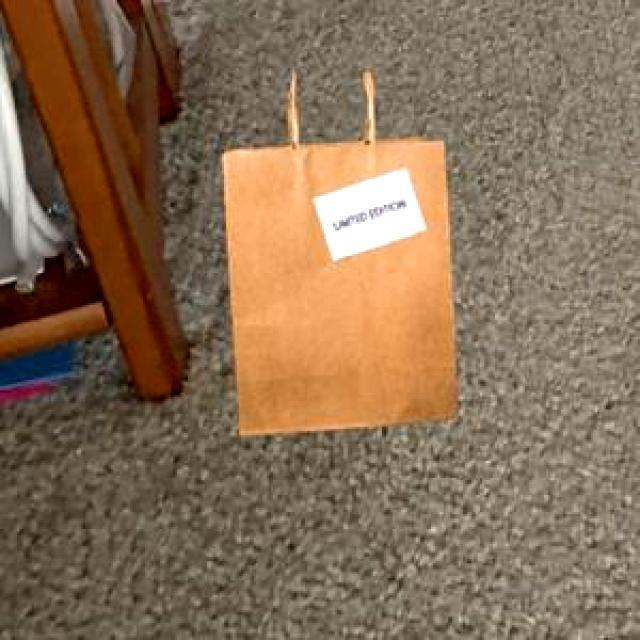Paper_Bag: (218, 69, 454, 434)
